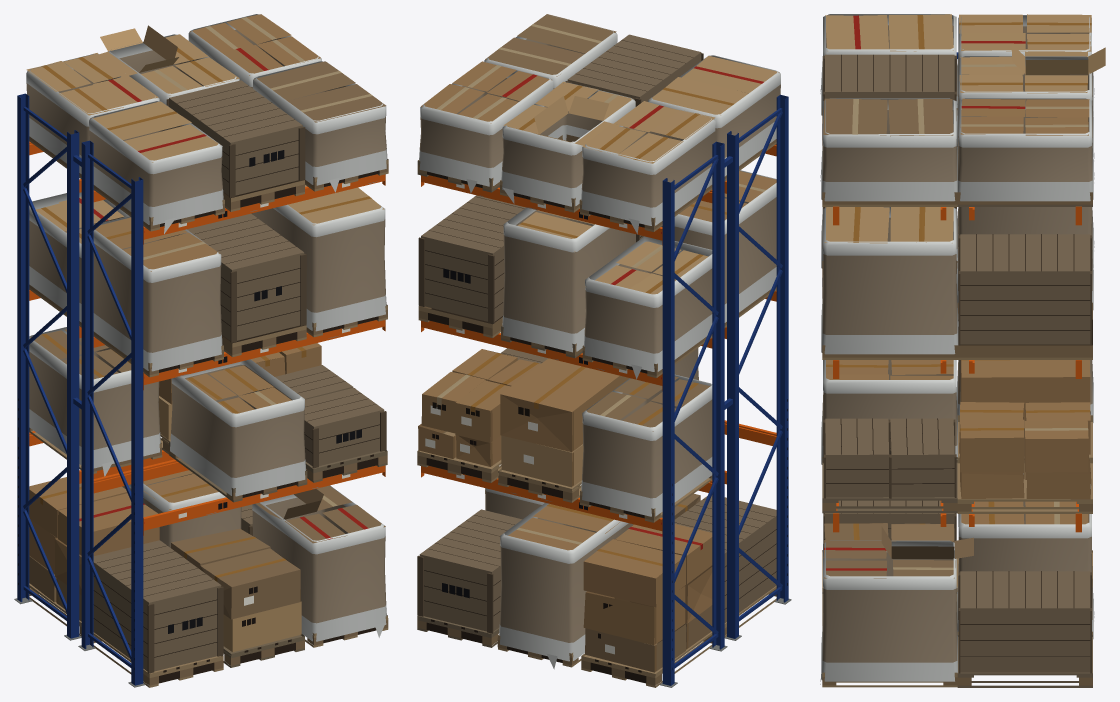
Rendered from rack@1.glb.
The picture shows the model from 3 angles, left to right: view 1: azimuth 30°, elevation 25°; view 2: azimuth 150°, elevation 25°; view 3: azimuth 270°, elevation 25°; orthographic projection. The views are drawn at different scales.
Parts seen in each view (by area): view 1: rack23, rack12, rack22, rack0, rack15, rack24, rack17, rack4, rack11, rack10, rack9, rack13 (+5 smaller); view 2: rack23, rack22, rack24, rack0, rack12, rack15, rack17, rack4, rack11, rack9, rack10, rack19 (+7 smaller); view 3: rack12, rack23, rack22, rack24, rack15, rack17, rack10, rack9, rack14, rack11, rack19, rack13 (+3 smaller).
Part boxes in pixels (x1,y1,x2,y2): rack23: [26, 29, 386, 623]; rack12: [93, 80, 384, 671]; rack22: [26, 14, 387, 641]; rack0: [17, 93, 143, 685]; rack15: [26, 25, 384, 652]; rack24: [29, 14, 321, 595]; rack17: [29, 61, 386, 621]; rack4: [29, 141, 385, 535]; rack11: [93, 85, 379, 683]; rack10: [29, 136, 388, 685]; rack9: [29, 139, 388, 687]; rack13: [147, 99, 386, 673]; rack23: [419, 38, 780, 642]; rack22: [419, 15, 780, 669]; rack24: [418, 61, 776, 645]; rack0: [662, 94, 788, 685]; rack12: [419, 34, 776, 631]; rack15: [501, 56, 778, 487]; rack17: [485, 14, 712, 672]; rack4: [421, 144, 776, 535]; rack11: [424, 40, 776, 683]; rack9: [417, 142, 776, 687]; rack10: [417, 134, 776, 685]; rack19: [468, 85, 734, 566]; rack12: [825, 54, 1090, 672]; rack23: [822, 25, 1092, 662]; rack22: [820, 14, 1094, 684]; rack24: [826, 98, 1091, 524]; rack15: [824, 14, 1105, 456]; rack17: [823, 98, 973, 578]; rack10: [822, 108, 1092, 685]; rack9: [822, 204, 1092, 687]; rack14: [822, 204, 1092, 687]; rack11: [822, 54, 1092, 656]; rack19: [826, 15, 1091, 540]; rack13: [823, 55, 1091, 673].
Bounding box in the file's own units: 2.72 × 5.62 × 2.53.
